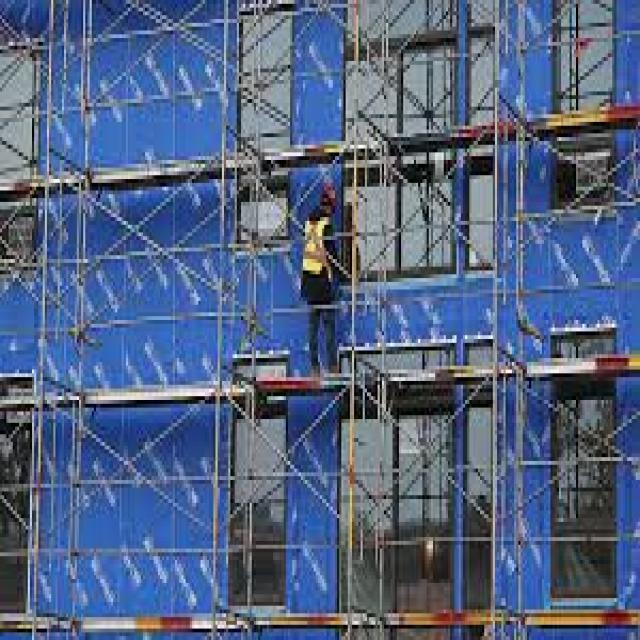Reflective-Jacket: (290, 210, 335, 286)
Safety-Helmet: (320, 171, 339, 202)
